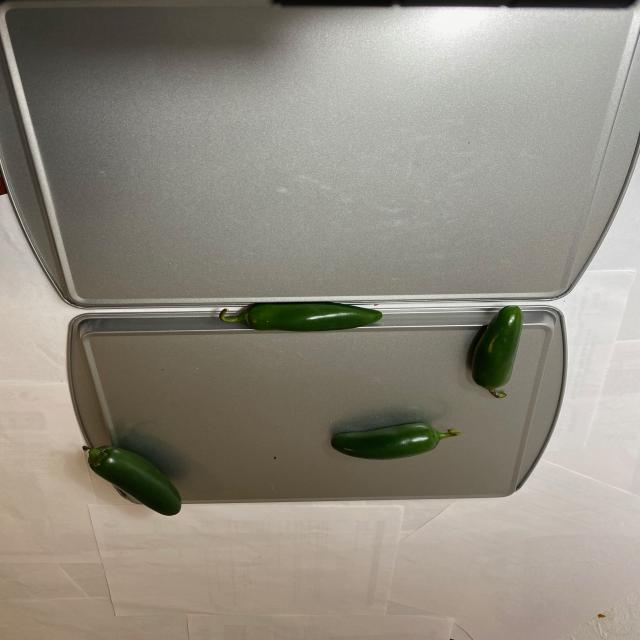chilli: (203, 288, 528, 459), (76, 432, 186, 518)
